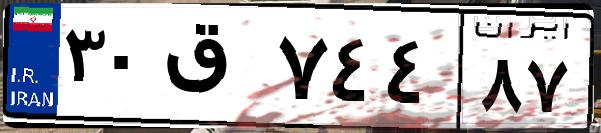0: (110, 28, 158, 98)
3: (57, 26, 110, 100)
4: (385, 28, 445, 110), (330, 28, 385, 110)
7: (270, 28, 330, 110), (525, 38, 570, 115)
8: (475, 38, 525, 113)
ق: (158, 20, 270, 120)
